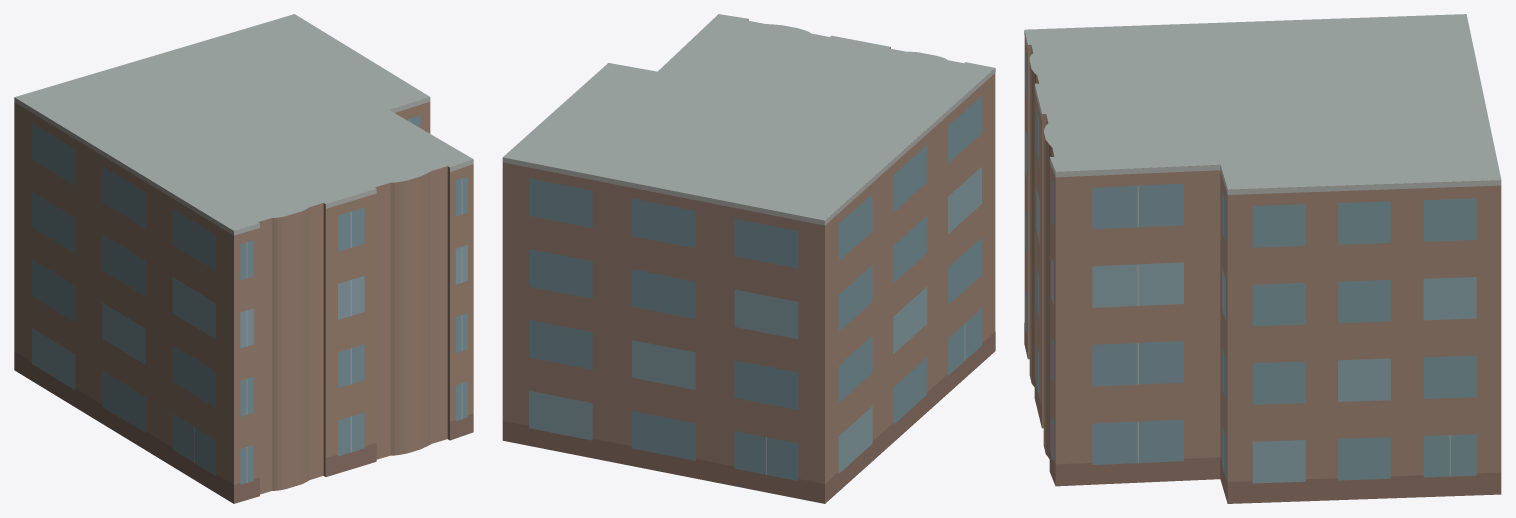
Rendered from survey-upis-32744120.glb.
The picture shows the model from 3 angles, left to right: view 1: azimuth 30°, elevation 25°; view 2: azimuth 150°, elevation 25°; view 3: azimuth 270°, elevation 25°; orthographic projection. The views are drawn at different scales.
Parts seen in each view (by area): view 1: survey-upis-32744120.tmp; view 2: survey-upis-32744120.tmp; view 3: survey-upis-32744120.tmp.
Part boxes in pixels (x1,y1,x2,y2): survey-upis-32744120.tmp: (14,14,473,503); survey-upis-32744120.tmp: (502,14,995,503); survey-upis-32744120.tmp: (1024,14,1501,503).
Bounding box in the file's own units: 16.77 × 14 × 19.26.
